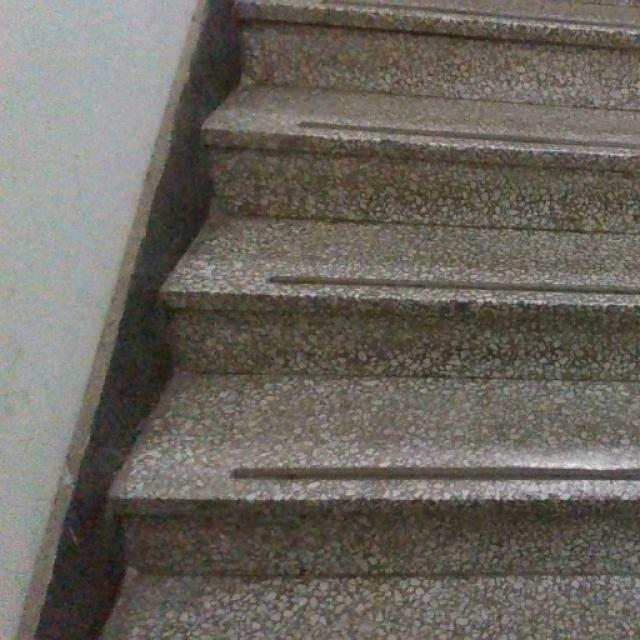Stairs: (86, 0, 639, 639)
